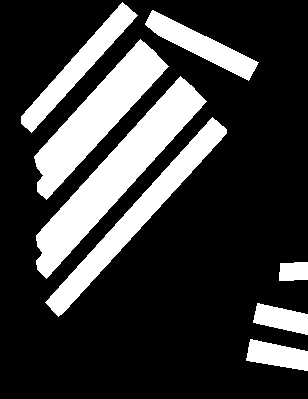parkingspot: (45, 117, 226, 316), (36, 87, 206, 278), (36, 76, 194, 254), (37, 52, 168, 199), (34, 39, 156, 176), (21, 2, 137, 132), (145, 10, 258, 80), (246, 339, 308, 370), (253, 303, 308, 334), (279, 262, 308, 280)
